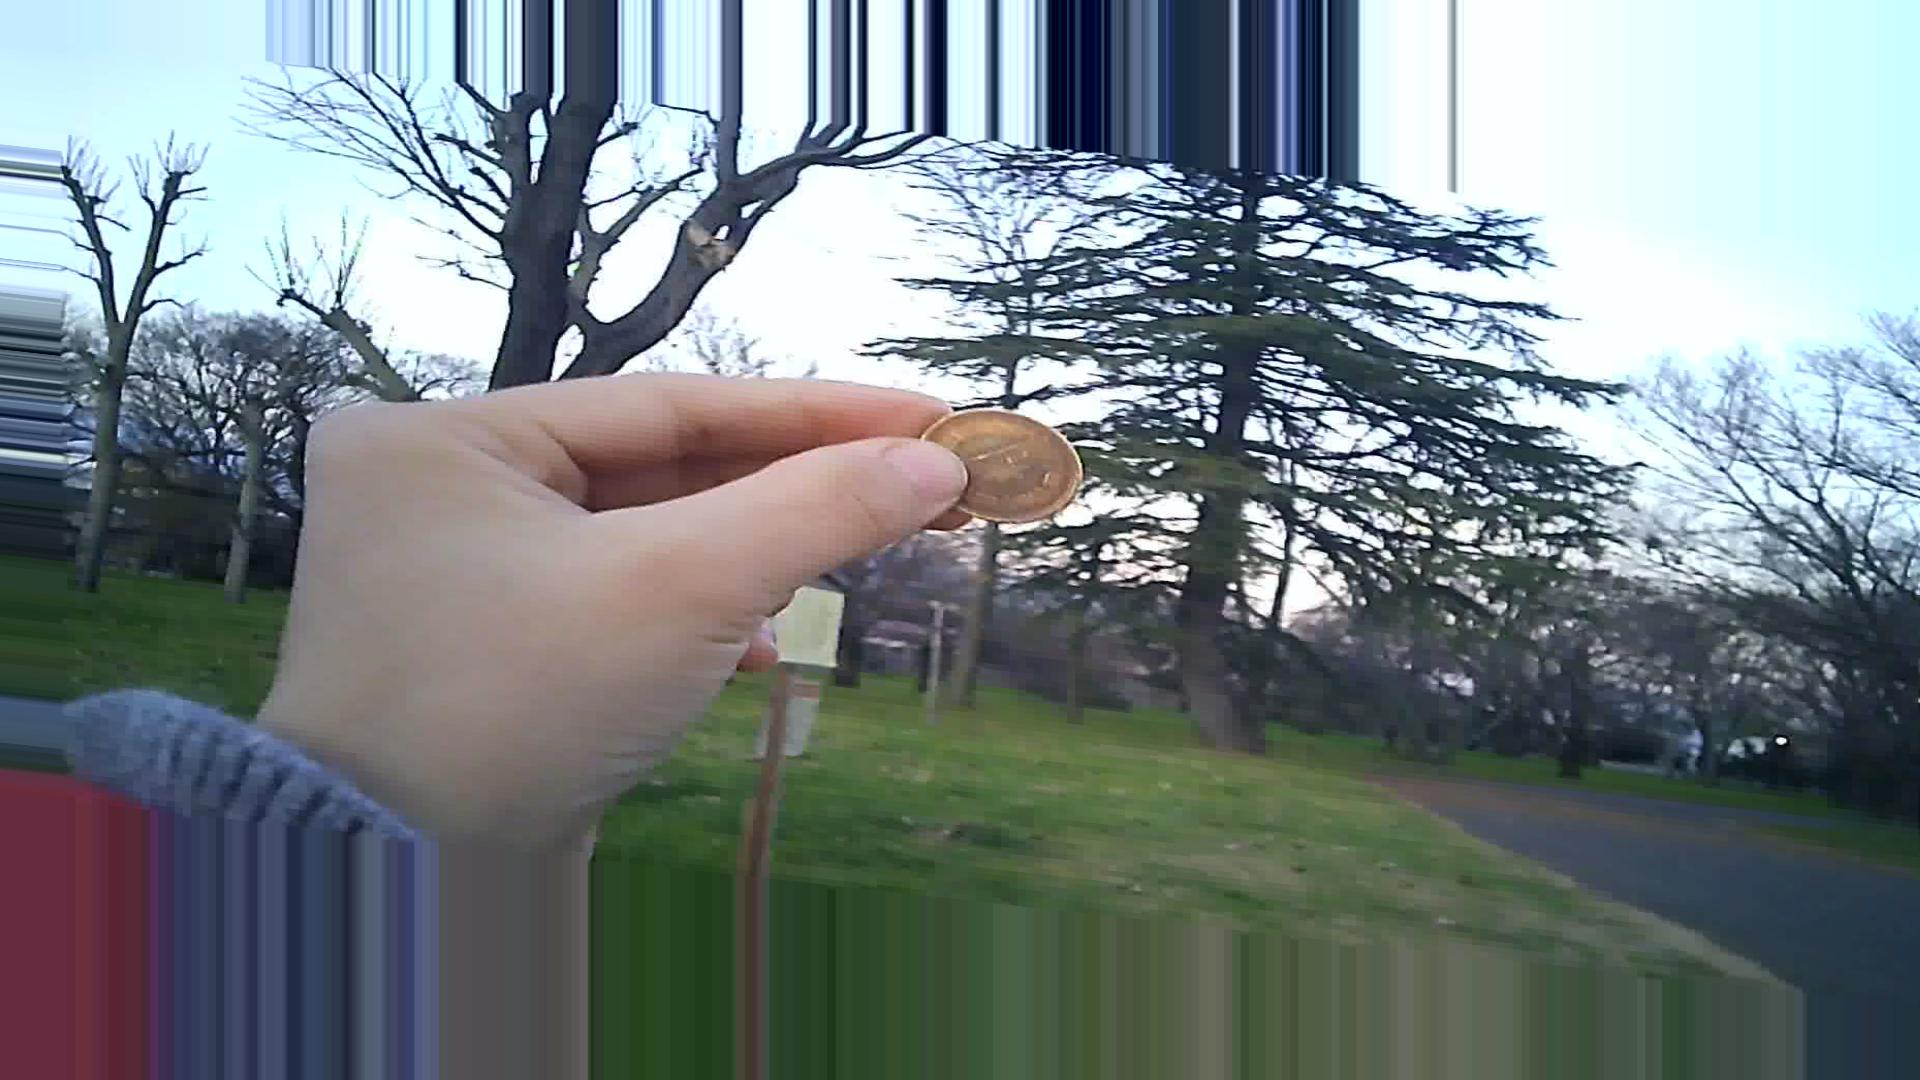10 Yen: (916, 389, 1087, 529)
